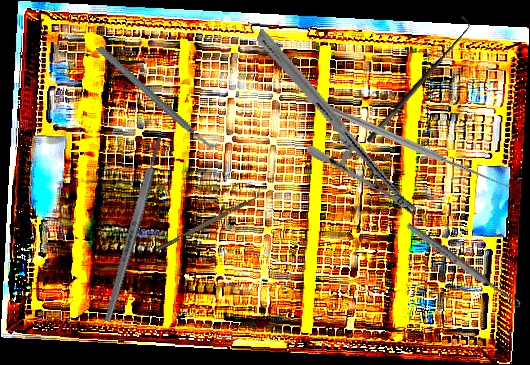Chopper: (93, 17, 223, 177), (154, 188, 264, 252)
Hook Surgical: (303, 24, 521, 255), (356, 13, 479, 145)
Needle Holder: (217, 27, 456, 219)
Scalpel Handle: (101, 135, 166, 323)
Surgical Spoon: (404, 221, 523, 310)
